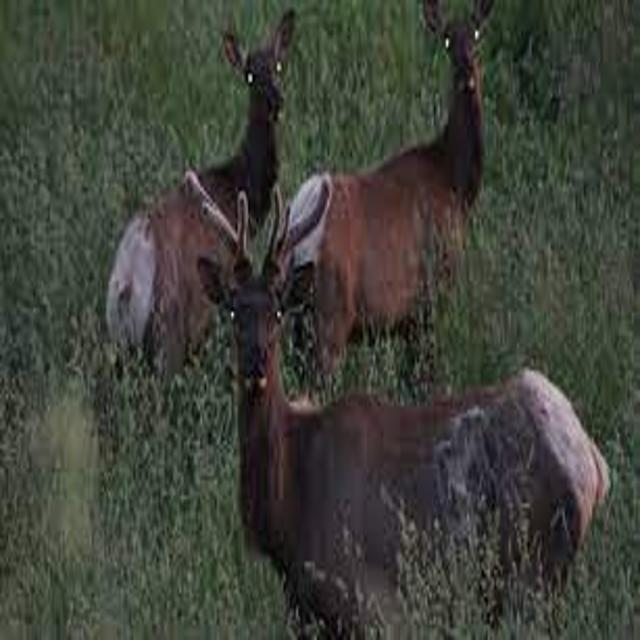deer: (165, 154, 624, 635), (64, 5, 372, 393), (249, 1, 529, 396)
